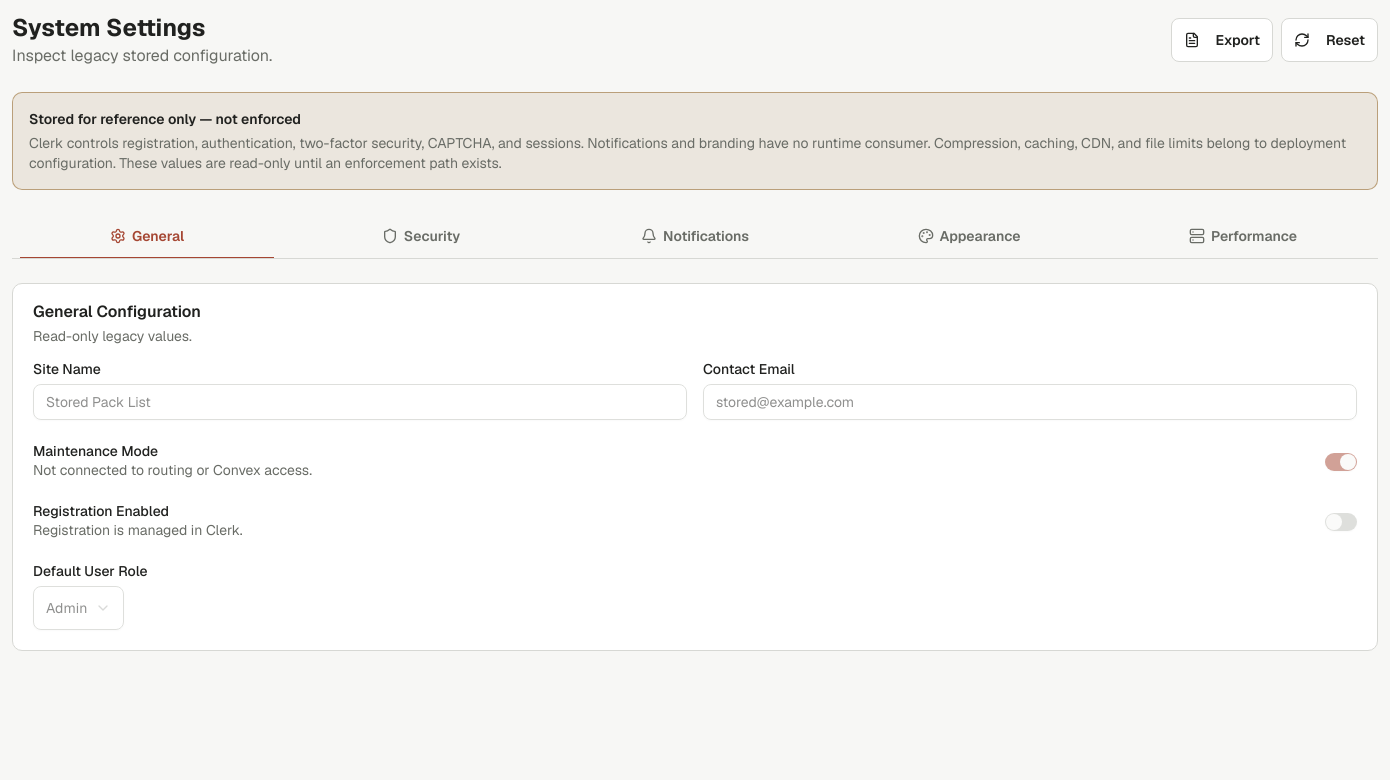
SystemSettings › gives every switch, select, and color text field an accessible name
expect the switch named "Maintenance Mode" in the row of "Maintenance Mode" is shown: met, box [1325, 453, 1357, 471]
expect the switch named "Registration Enabled" in the row of "Registration is managed in Clerk." is shown: met, box [1325, 513, 1357, 531]
Click the tab "Security": (421, 236) [286, 214, 556, 258]
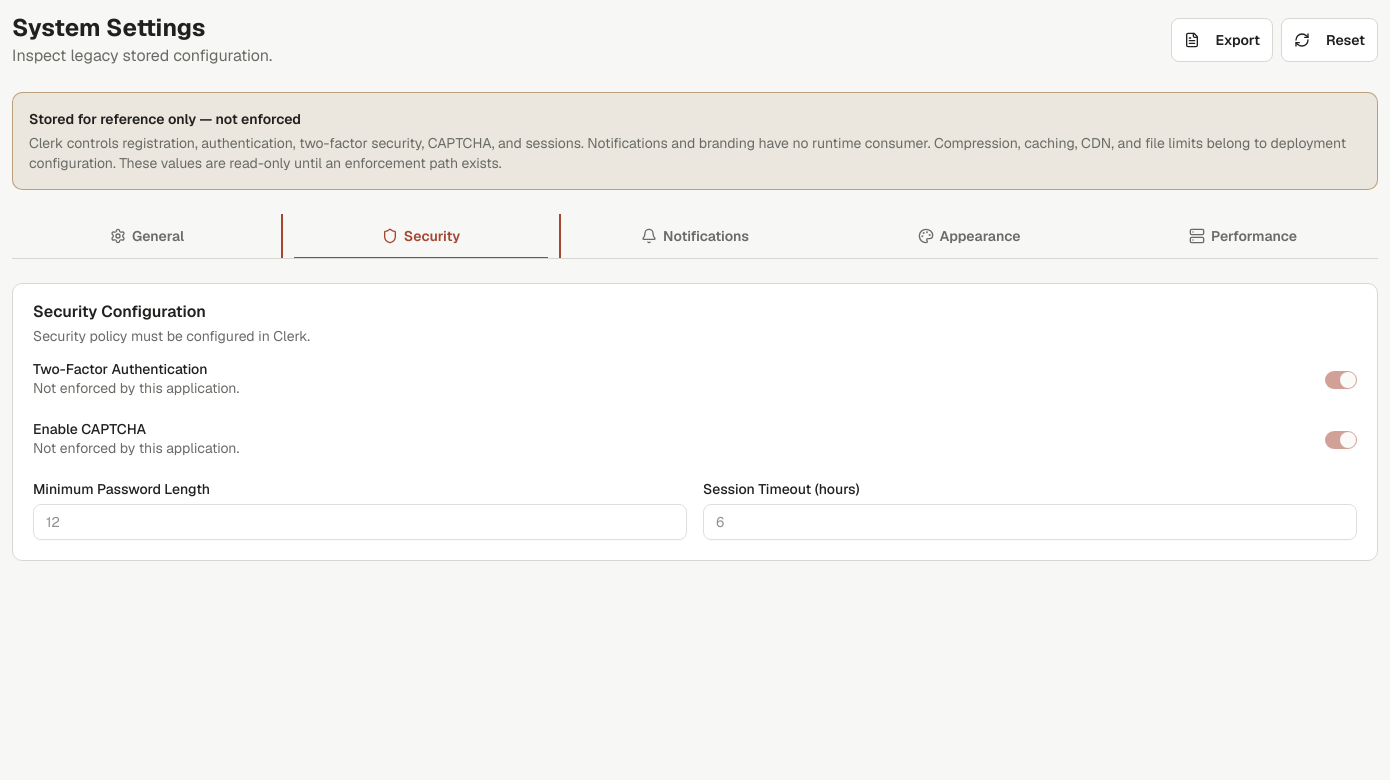
expect the switch named "Two-Factor Authentication" in the row of "Two-Factor Authentication" is shown: met, box [1325, 371, 1357, 389]
expect the switch named "Enable CAPTCHA" in the row of "Enable CAPTCHA" is shown: met, box [1325, 431, 1357, 449]
Click the tab "Notifications": (695, 236) [560, 214, 830, 258]
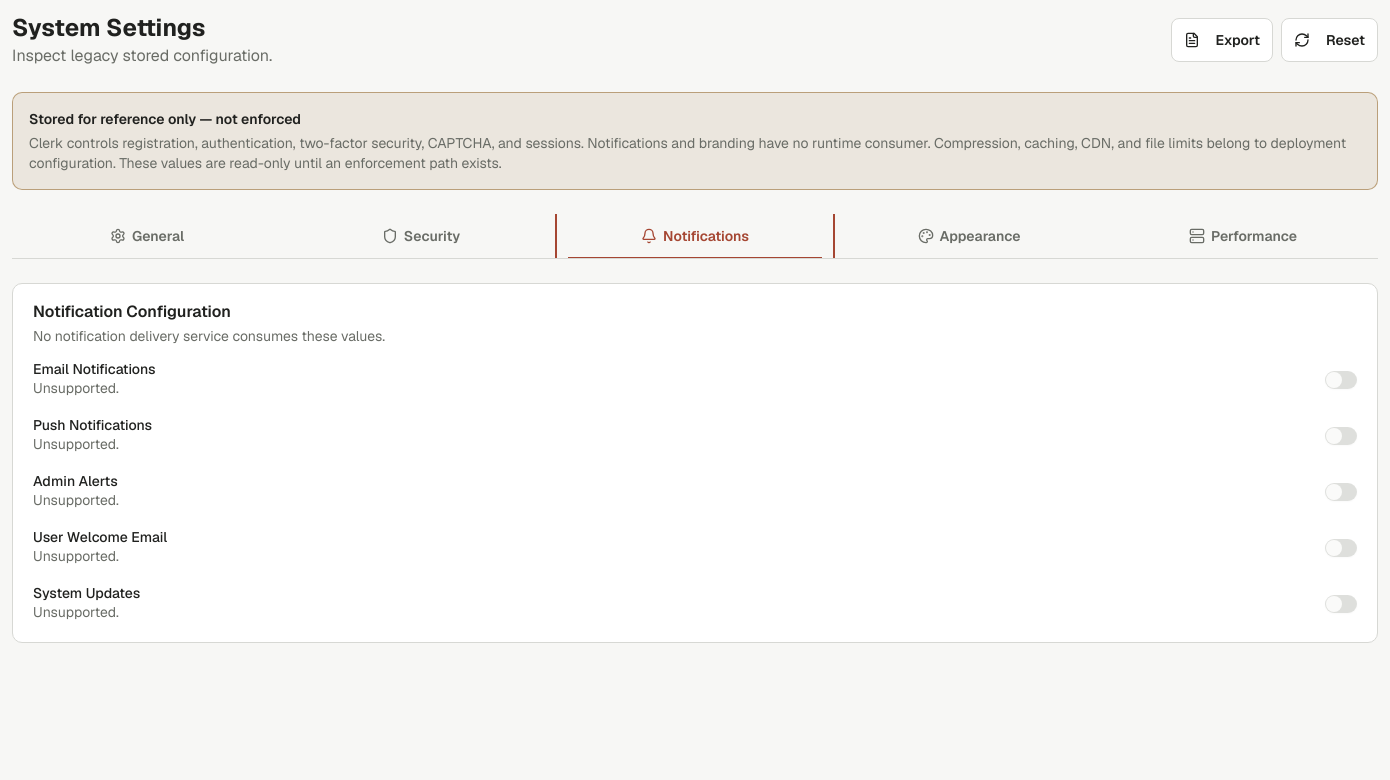
expect the switch named "Email Notifications" in the row of "Email Notifications" is shown: met, box [1325, 371, 1357, 389]
expect the switch named "Push Notifications" in the row of "Push Notifications" is shown: met, box [1325, 427, 1357, 445]
expect the switch named "Admin Alerts" in the row of "Admin Alerts" is shown: met, box [1325, 483, 1357, 501]
Click the tab "Appearance": (969, 236) [834, 214, 1104, 258]
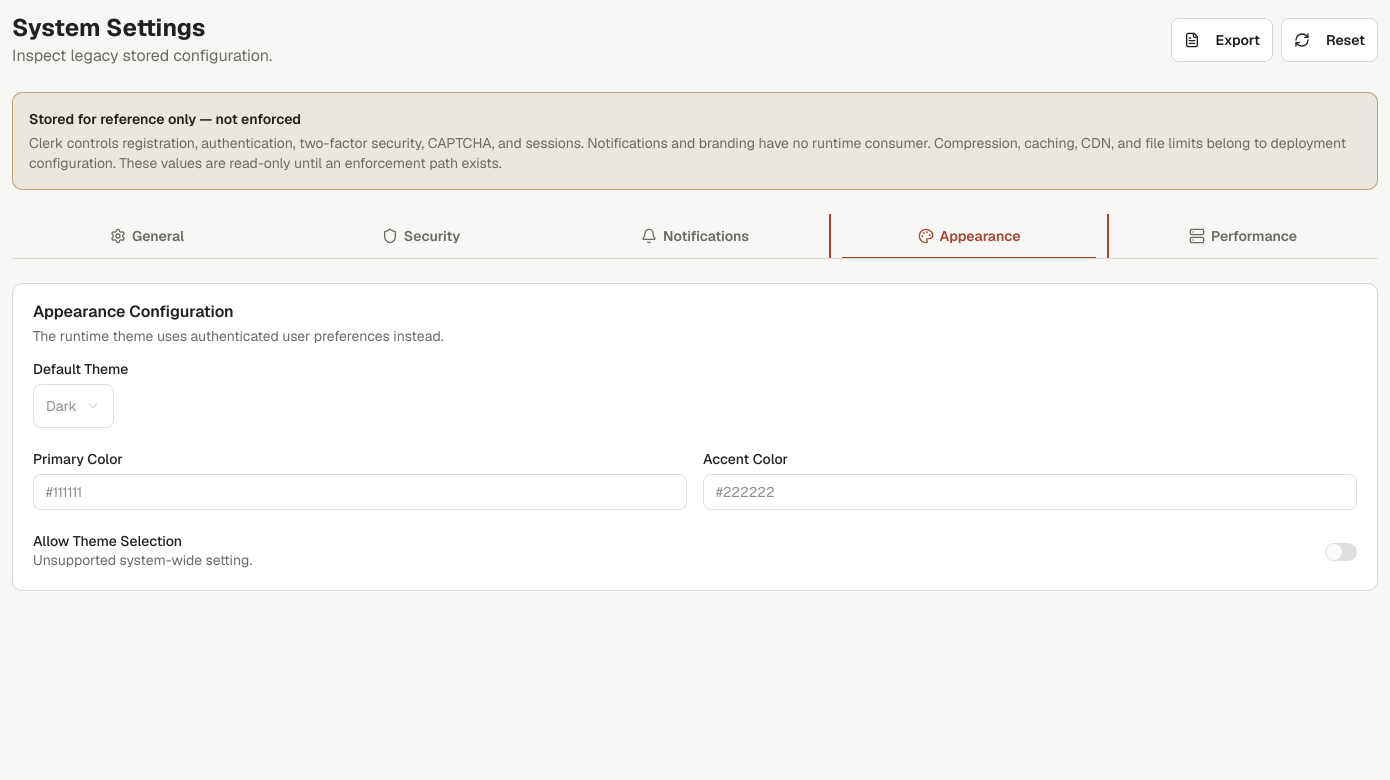
expect the dropdown named "Default Theme" is shown: met, box [33, 384, 114, 428]
expect the field named "Primary Color hex value" is shown: met, box [33, 474, 687, 510]
expect the field named "Accent Color hex value" is shown: met, box [703, 474, 1357, 510]
Click the tab "Performance": (1243, 236) [1108, 214, 1378, 258]
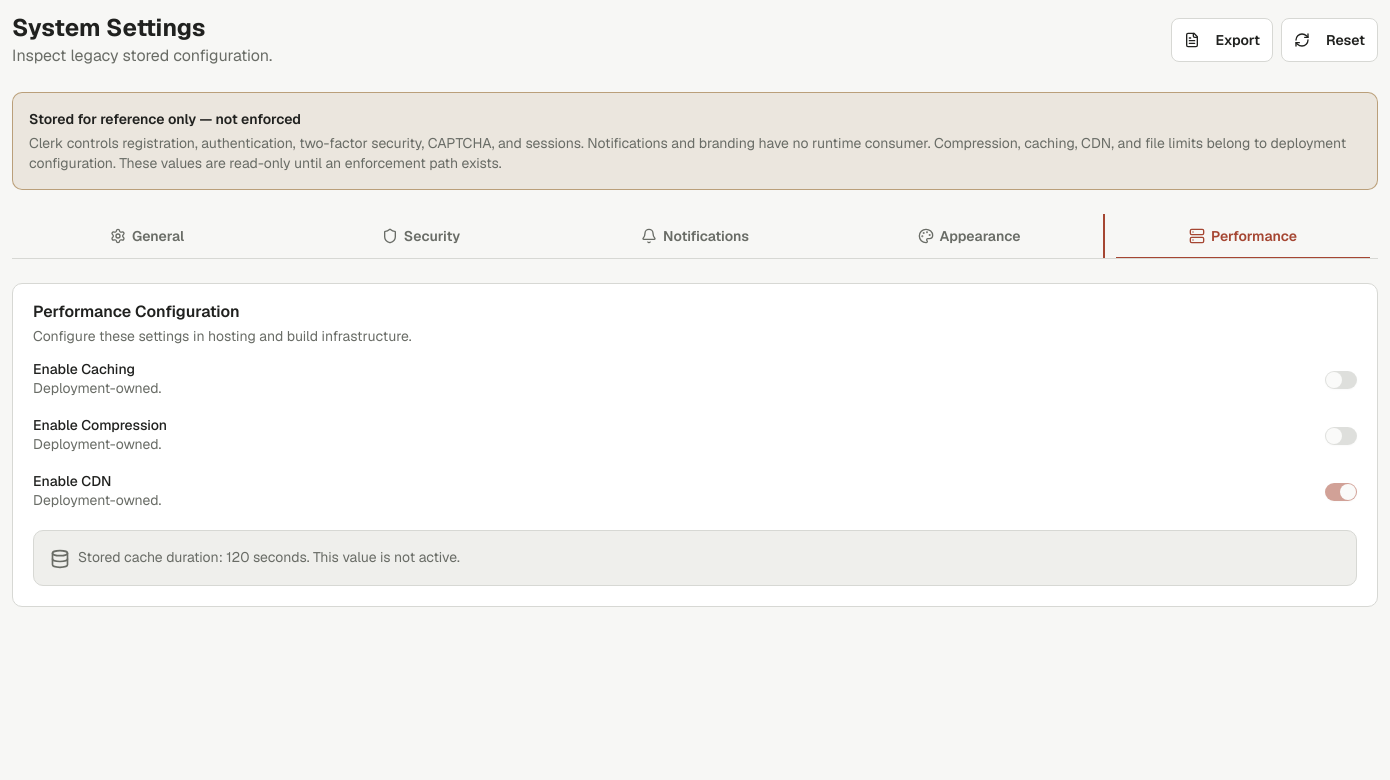
expect the switch named "Enable Caching" in the row of "Enable Caching" is shown: met, box [1325, 371, 1357, 389]
expect the switch named "Enable Compression" in the row of "Enable Compression" is shown: met, box [1325, 427, 1357, 445]
expect the switch named "Enable CDN" in the row of "Enable CDN" is shown: met, box [1325, 483, 1357, 501]
